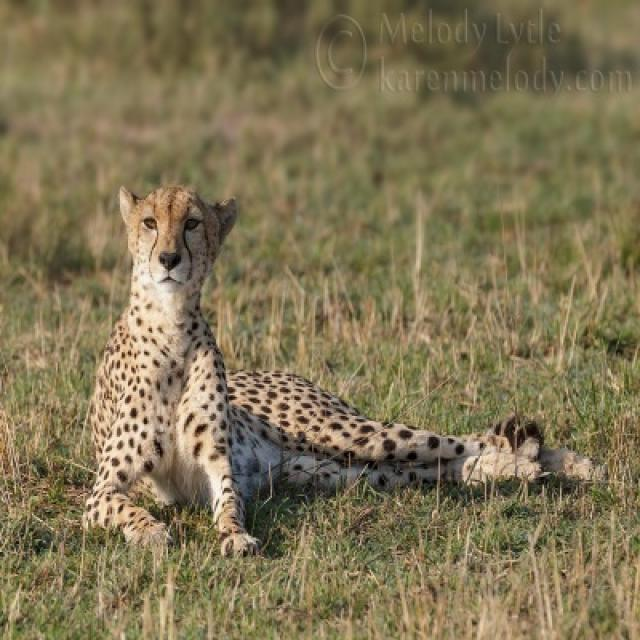Cheetah: (83, 187, 539, 558)
